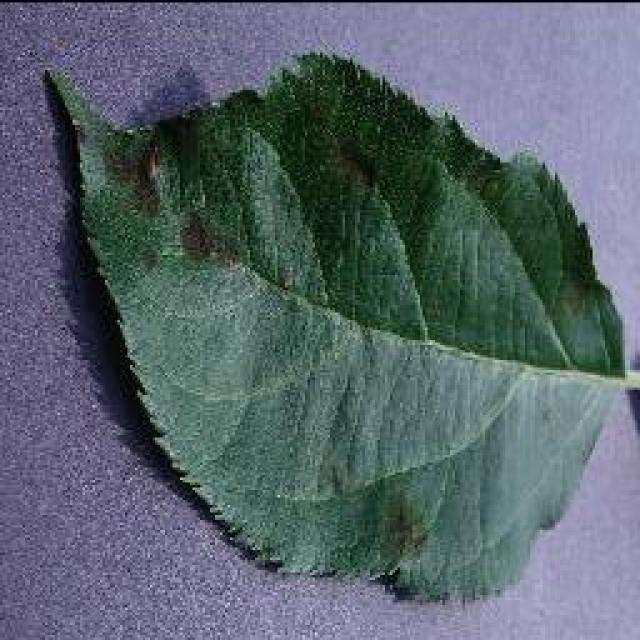Apple___Apple_scab: (41, 48, 627, 610)
